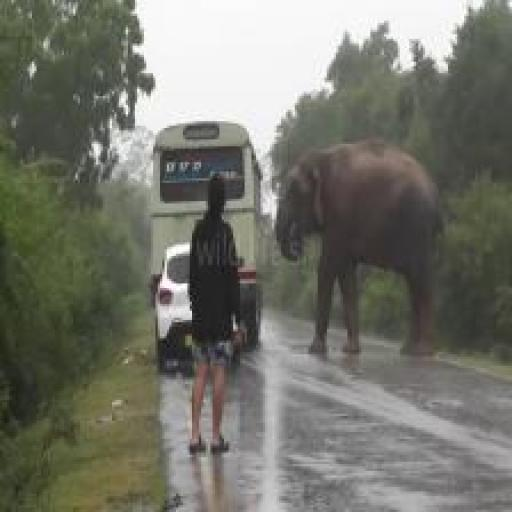Elephant: (268, 124, 458, 401)
